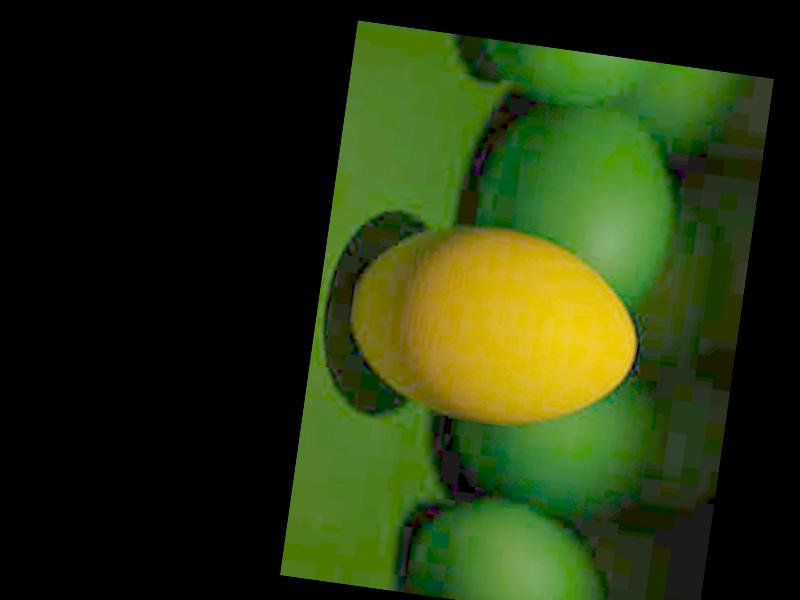Eggs: (338, 210, 647, 441)
